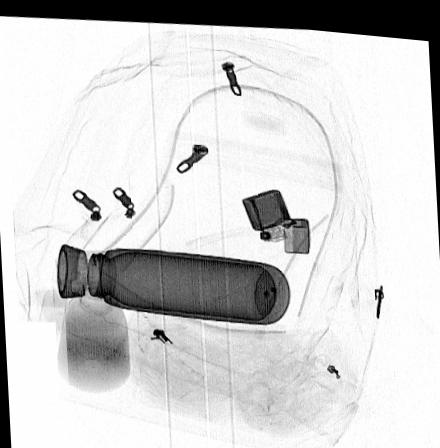Lighter: (241, 183, 311, 247)
